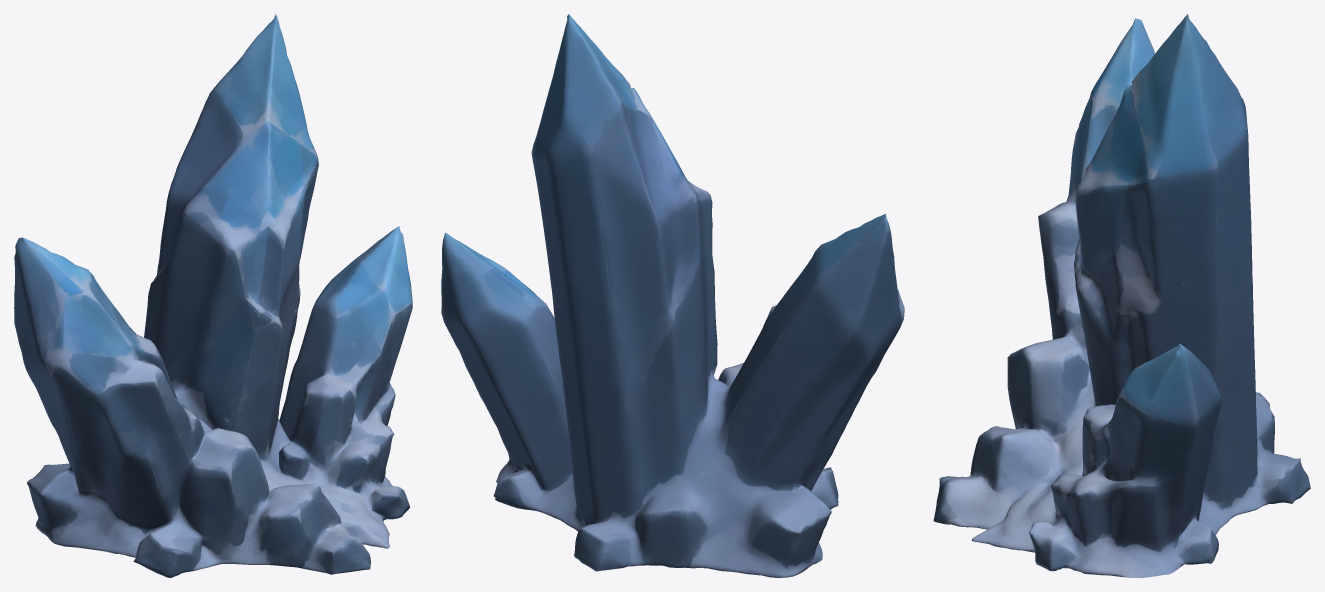
Rendered from ice_shard.glb.
3 views of the same model, side by side, from view 1: azimuth 30°, elevation 25°; view 2: azimuth 150°, elevation 25°; view 3: azimuth 270°, elevation 25° (orthographic). The views are drawn at different scales.
Parts seen in each view (by area): view 1: tripo_node_b8c5dd6a; view 2: tripo_node_b8c5dd6a; view 3: tripo_node_b8c5dd6a.
Part boxes in pixels (left/top/right/bottom): tripo_node_b8c5dd6a: left=14, top=14, right=412, bottom=577; tripo_node_b8c5dd6a: left=441, top=14, right=904, bottom=577; tripo_node_b8c5dd6a: left=933, top=14, right=1310, bottom=577.
Size of the model in its own units: 90.03 by 99.69 by 65.66.
Materials: 1 (1 with a texture image).
